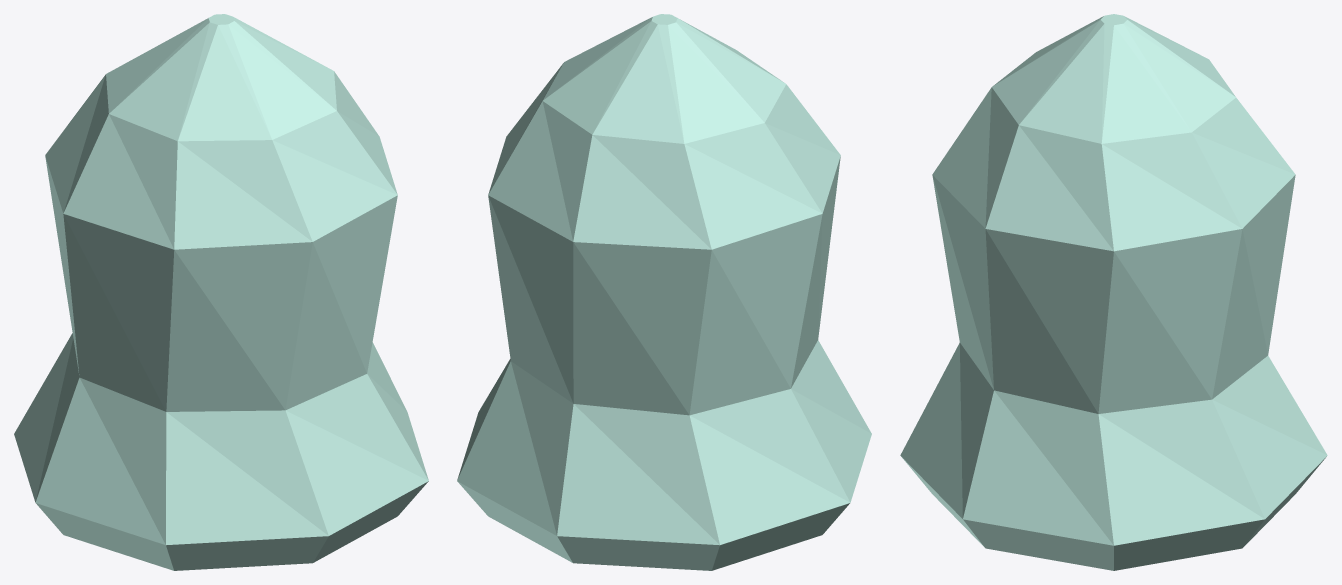
File: opal-spire.obj
The picture shows the model from 3 angles, left to right: view 1: azimuth 30°, elevation 25°; view 2: azimuth 150°, elevation 25°; view 3: azimuth 270°, elevation 25°; orthographic projection.
Bounding box in the file's own units: 0.8 × 0.98 × 0.8.
